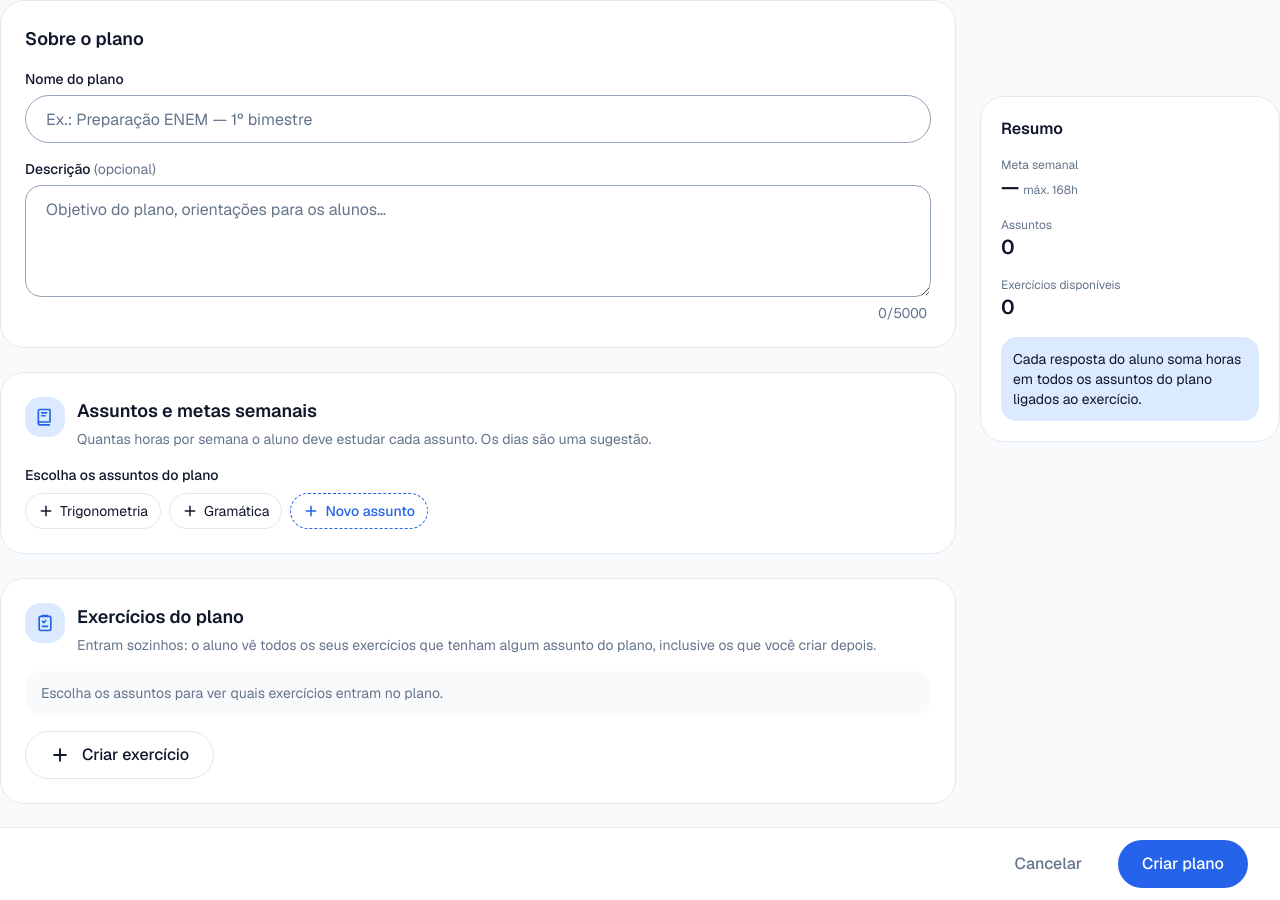
it: PlanEditor › creates a subject without leaving the plan and adds it
Click the button "Novo assunto".
click(359, 511)  # box [290,493,428,529]
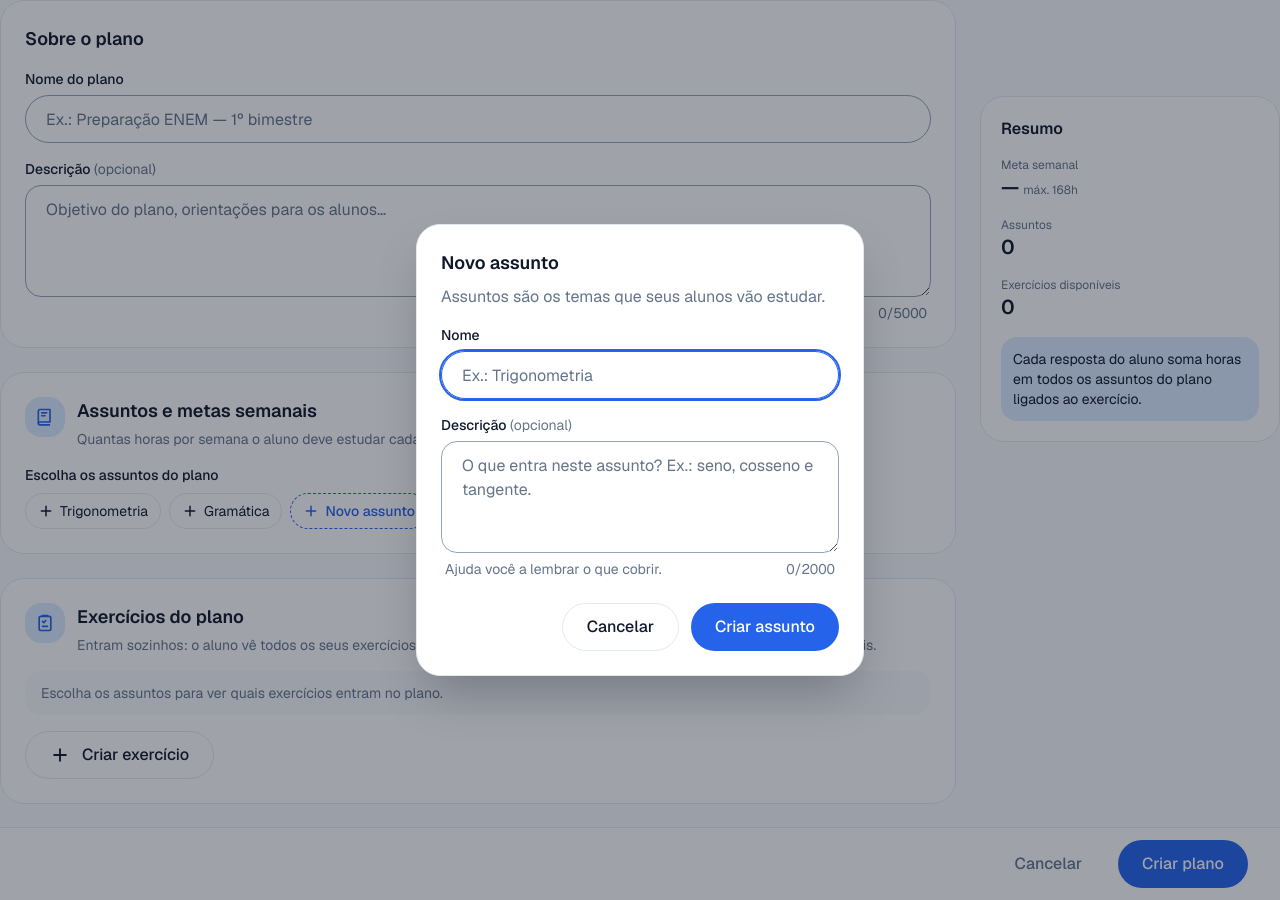
Type "Inglês" into the field labelled "Nome".
click(640, 375); type("Inglês")  # box [441,351,839,399]
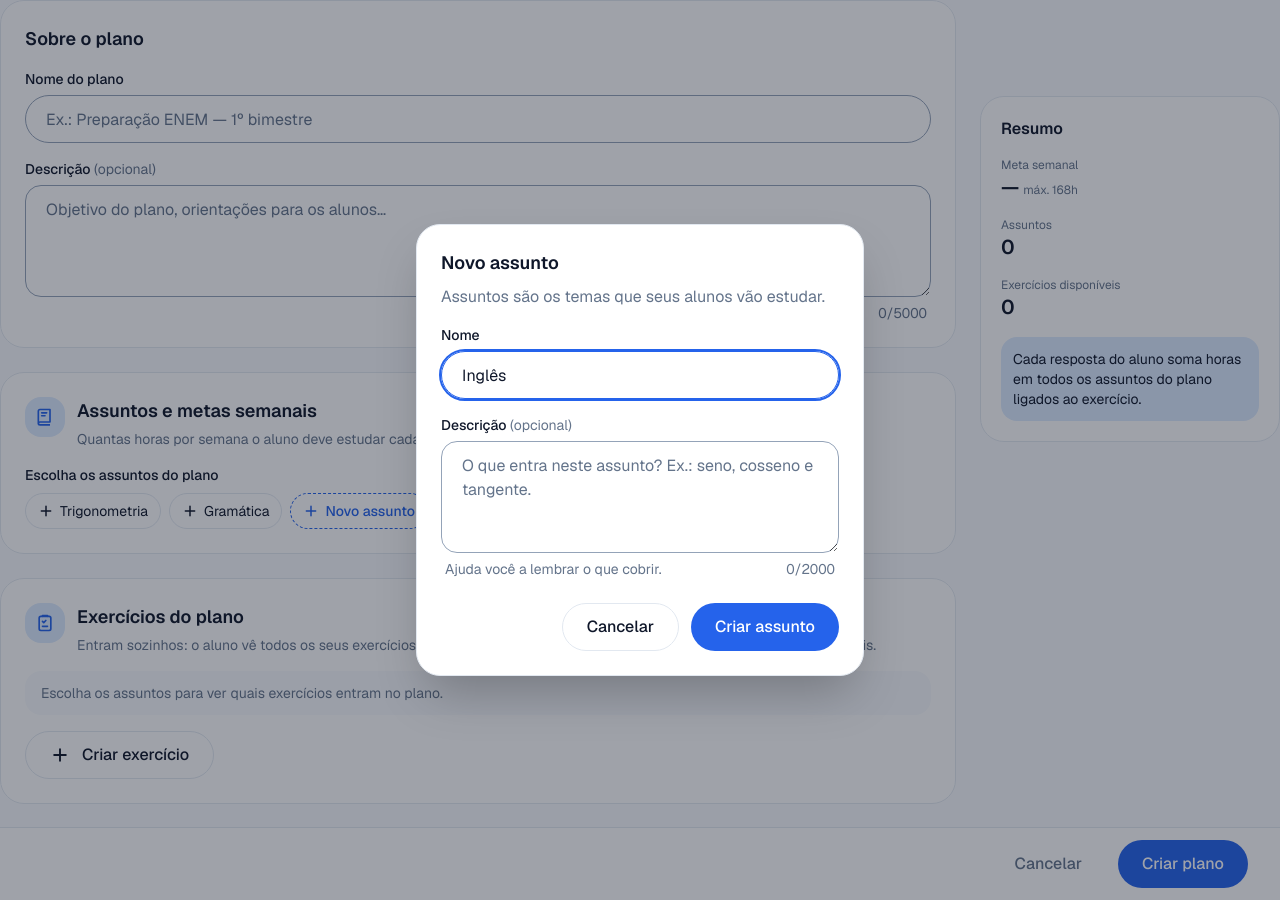
Click the button "Criar assunto".
click(765, 627)  # box [691,603,839,651]
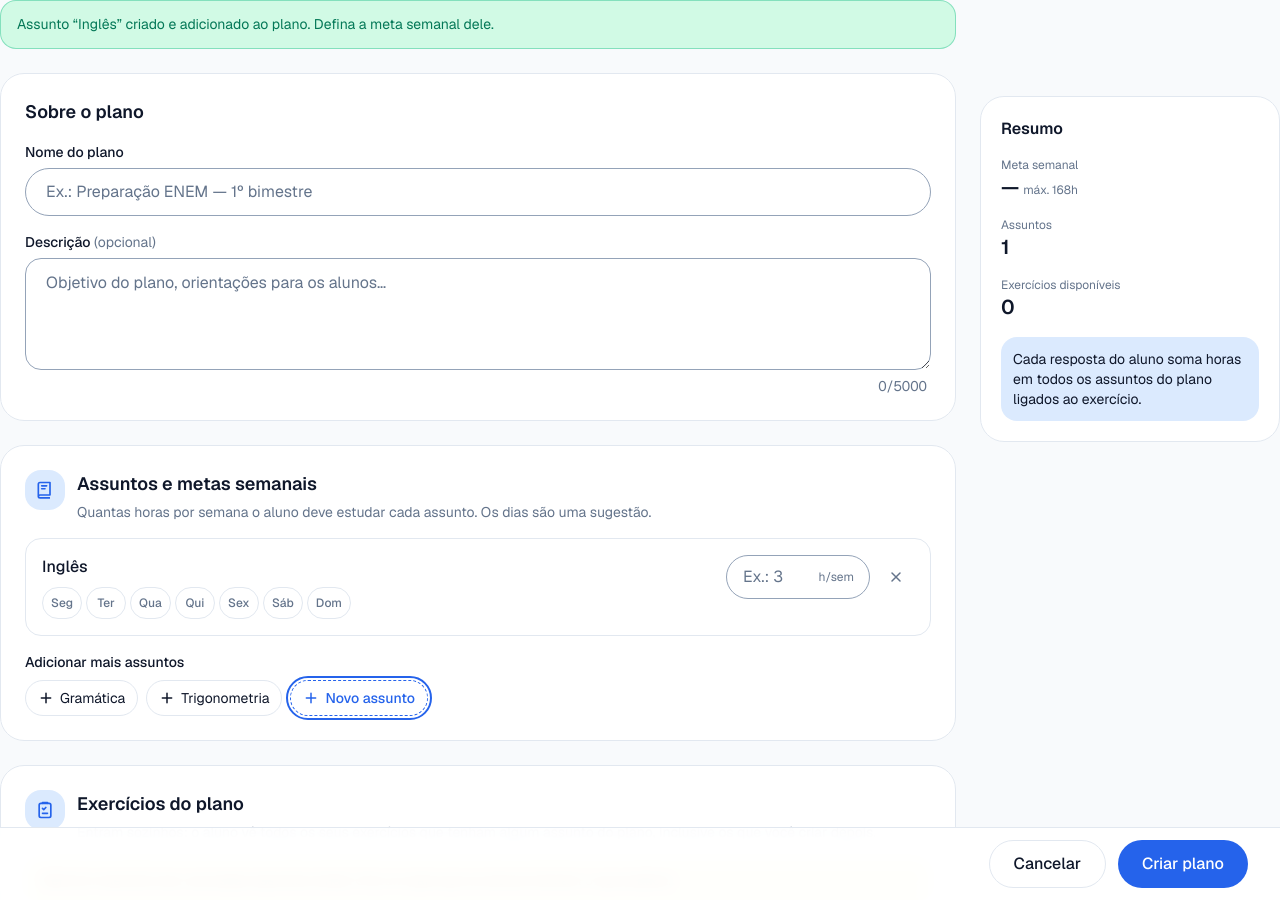
expect the text "Assunto “Inglês” criado e adicionado ao plano. Defina a meta semanal dele." is shown: met, box [0,0,956,49]
expect the field named "Horas por semana de Inglês" is shown: met, box [726,555,870,599]
